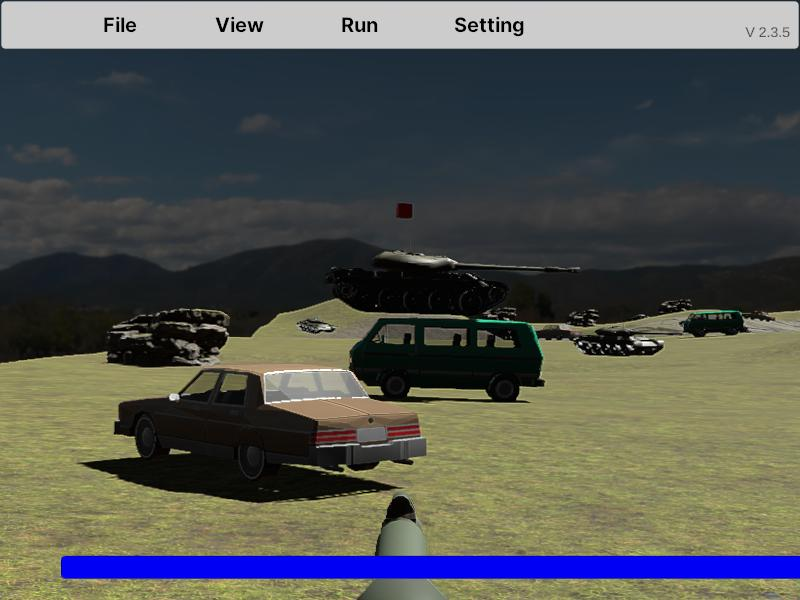Tank: (327, 248, 576, 313), (573, 327, 682, 357)
car: (111, 365, 427, 481), (349, 318, 545, 403), (682, 310, 744, 337)
